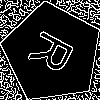R: (27, 28, 84, 81)
